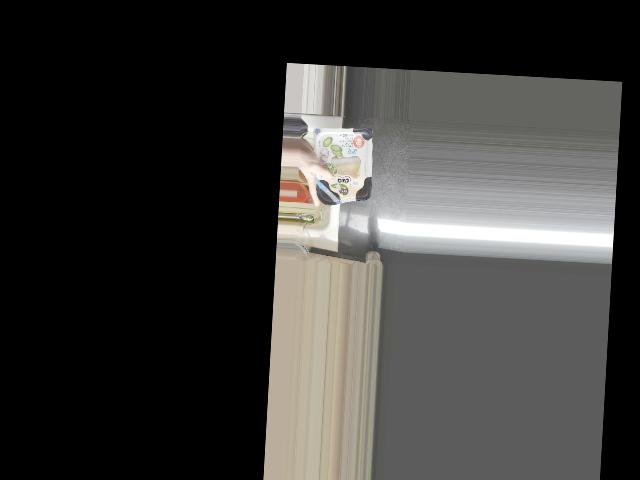cheese: (309, 128, 373, 207)
